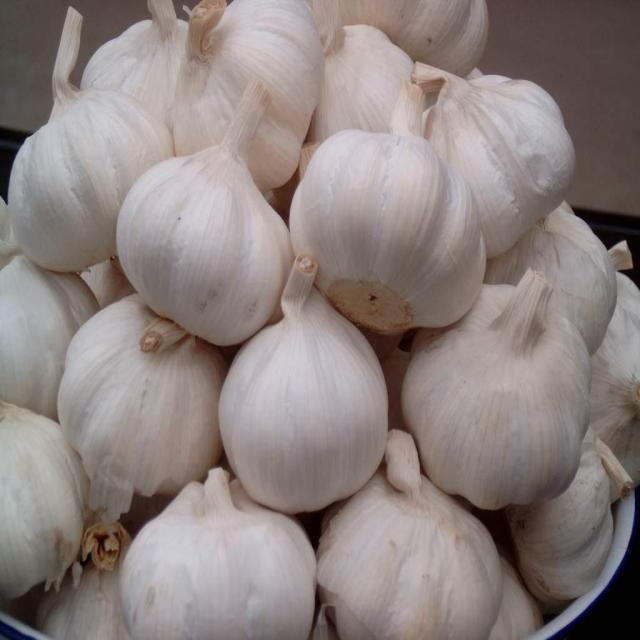garlic: (290, 82, 485, 333), (116, 78, 292, 344), (402, 270, 590, 508), (9, 8, 174, 272), (218, 253, 386, 512), (58, 293, 228, 520), (318, 430, 502, 638), (121, 468, 316, 638), (411, 62, 575, 258), (174, 0, 324, 192), (0, 402, 89, 598)
